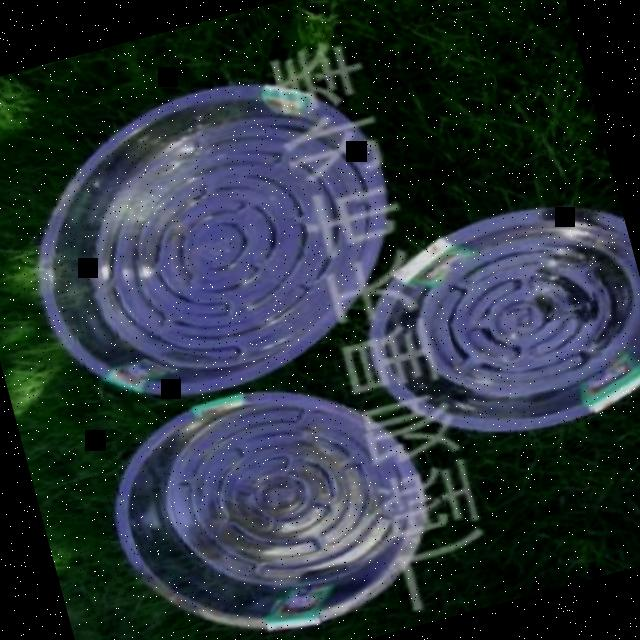plastic_box: (0, 51, 427, 430), (86, 348, 453, 640)
